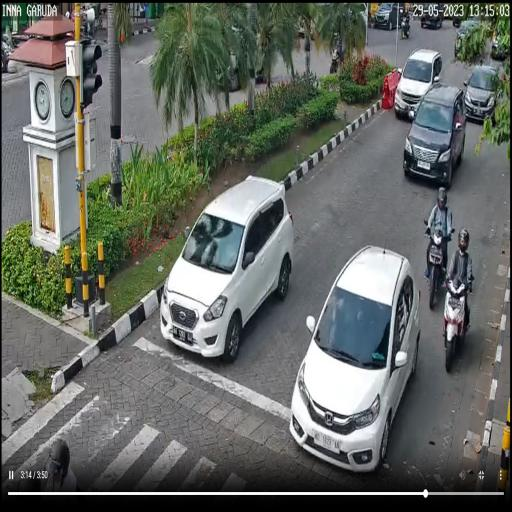mobil: (290, 244, 421, 468), (160, 185, 293, 354), (405, 83, 466, 191), (395, 40, 441, 127), (465, 64, 502, 122)
motor: (440, 266, 476, 376), (423, 218, 453, 310)
